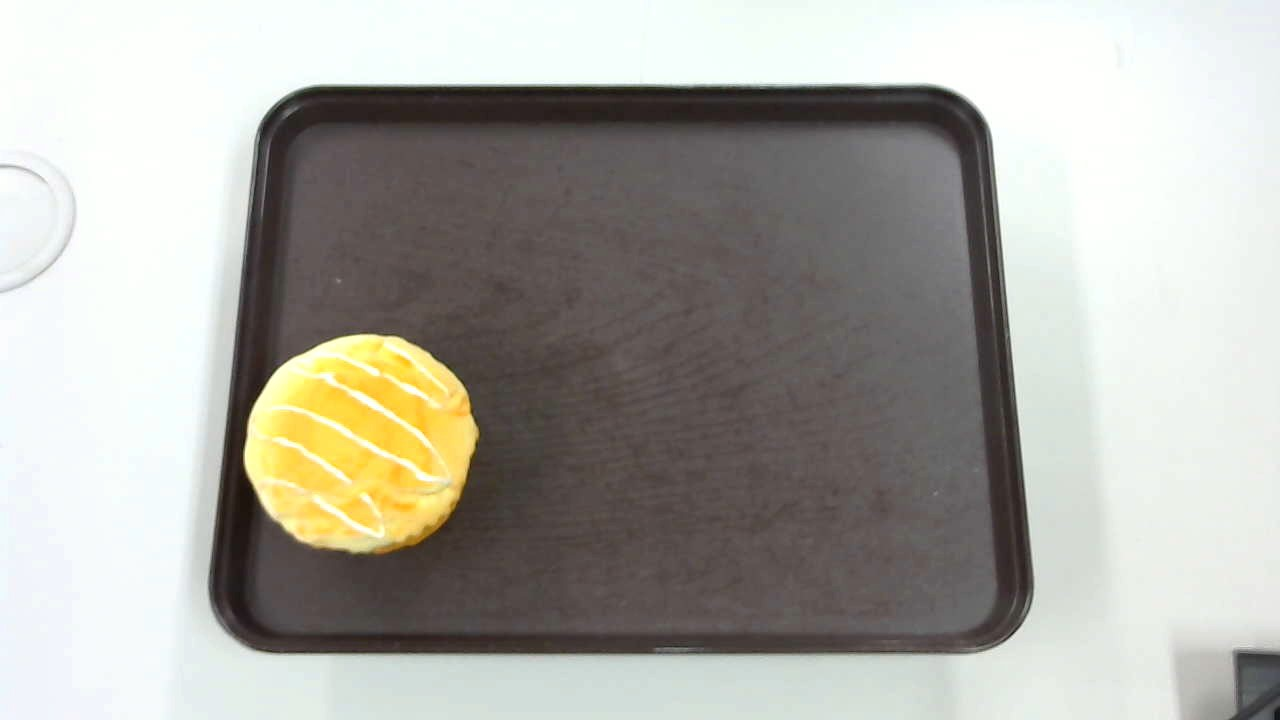cupcake: (243, 333, 479, 556)
